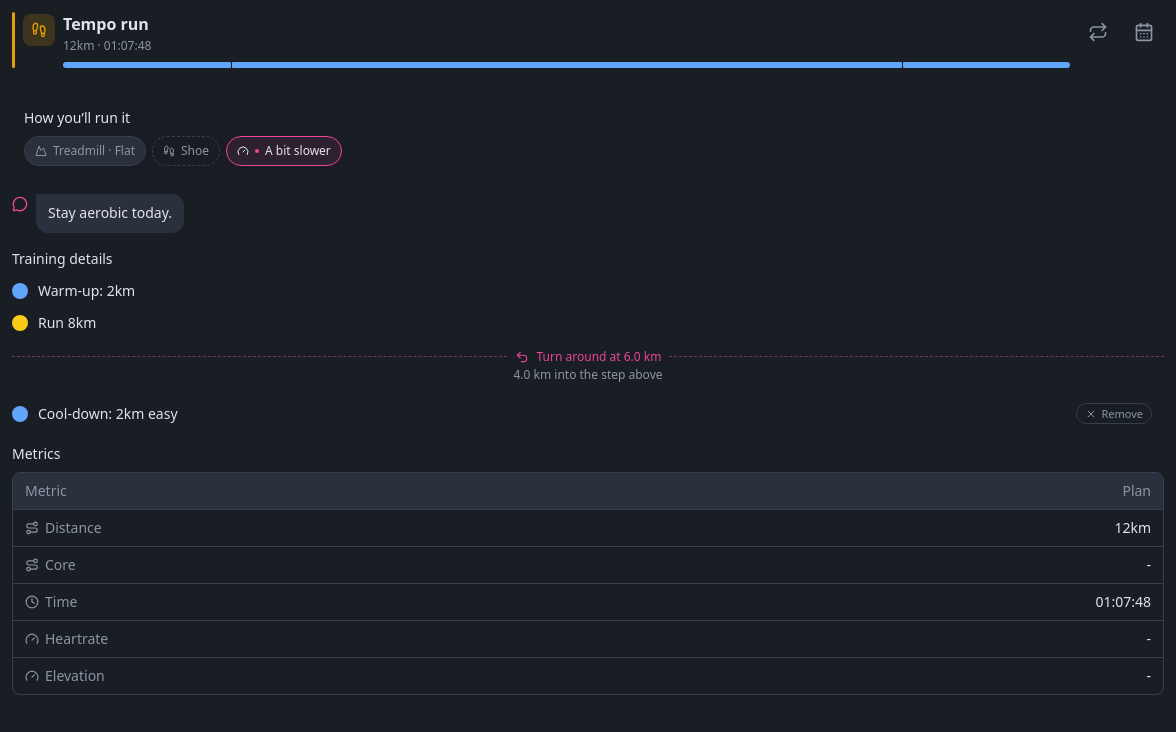
Test case: cool-down › moves the turnaround back when the cool-down is removed
Expected: the text "Turn around at 6.0 km" is shown, [536, 349, 661, 365]
What coordinates should you click on to do the following:
click the text "Remove"
I would click on:
 (1114, 414)
Its box is [1076, 403, 1152, 424].
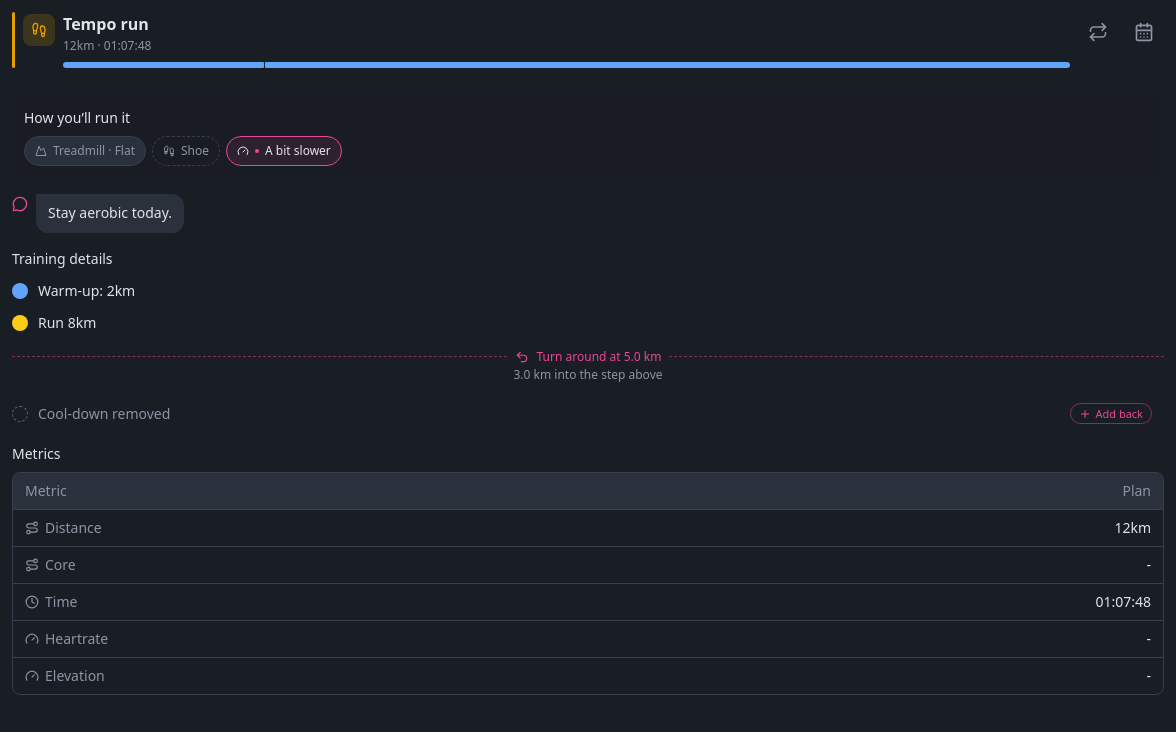
Expected: the text "Turn around at 5.0 km" is shown, [536, 349, 661, 365]
